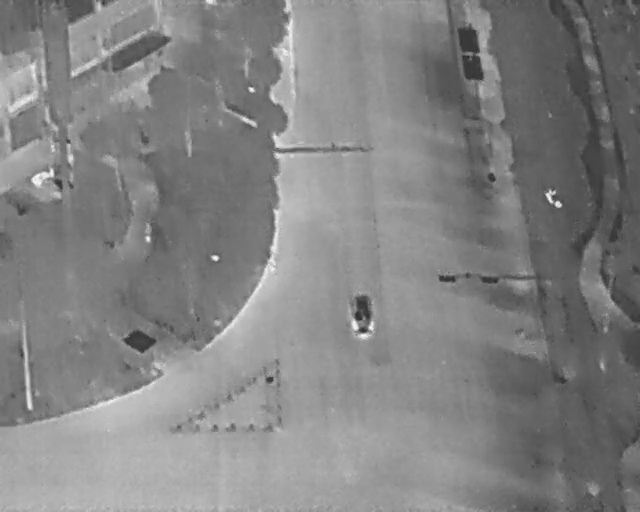Car: (25, 161, 76, 210), (344, 290, 377, 343)
